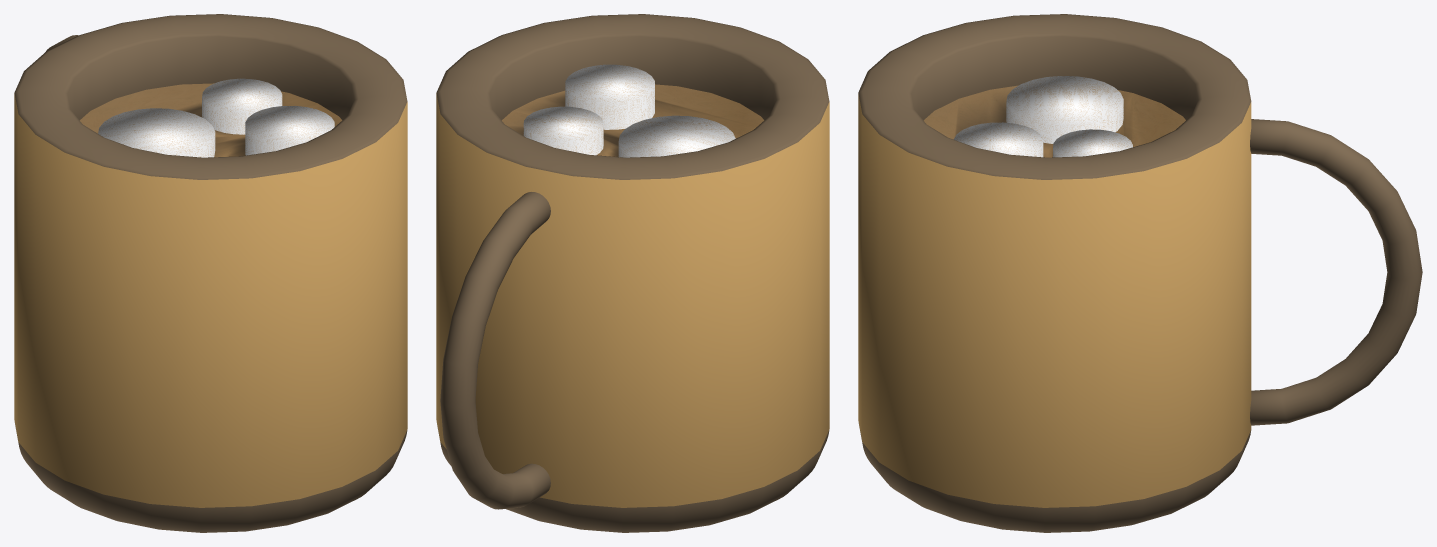
3 renders of one model, left to right at view 1: azimuth 30°, elevation 25°; view 2: azimuth 150°, elevation 25°; view 3: azimuth 270°, elevation 25°, orthographic.
Parts seen in each view (by area): view 1: mesh1_mesh1-geometry_2, mesh1_mesh1-geometry_1, mesh1_mesh1-geometry_6, mesh1_mesh1-geometry_3, mesh1_mesh1-geometry_5; view 2: mesh1_mesh1-geometry_2, mesh1_mesh1-geometry_1, mesh2_mesh2-geometry_1, mesh1_mesh1-geometry_6, mesh1_mesh1-geometry_3, mesh1_mesh1-geometry_5; view 3: mesh1_mesh1-geometry_2, mesh1_mesh1-geometry_1, mesh2_mesh2-geometry_1, mesh1_mesh1-geometry_6, mesh1_mesh1-geometry_3, mesh1_mesh1-geometry_5.
Part boxes in pixels (x1,y1,x2,y2): mesh1_mesh1-geometry_2: [14, 93, 407, 507]; mesh1_mesh1-geometry_1: [14, 14, 407, 532]; mesh1_mesh1-geometry_6: [98, 78, 334, 157]; mesh1_mesh1-geometry_3: [80, 79, 341, 157]; mesh1_mesh1-geometry_5: [80, 83, 341, 156]; mesh1_mesh1-geometry_2: [436, 93, 829, 507]; mesh1_mesh1-geometry_1: [436, 14, 829, 532]; mesh2_mesh2-geometry_1: [440, 192, 550, 509]; mesh1_mesh1-geometry_6: [523, 64, 735, 157]; mesh1_mesh1-geometry_3: [502, 65, 763, 156]; mesh1_mesh1-geometry_5: [502, 84, 763, 156]; mesh1_mesh1-geometry_2: [858, 93, 1251, 507]; mesh1_mesh1-geometry_1: [858, 14, 1251, 532]; mesh2_mesh2-geometry_1: [1250, 119, 1422, 425]; mesh1_mesh1-geometry_6: [953, 76, 1132, 157]; mesh1_mesh1-geometry_3: [924, 76, 1185, 157]; mesh1_mesh1-geometry_5: [924, 86, 1185, 157].
Bounding box in the file's own units: 0.4902 × 0.514 × 0.7039.
